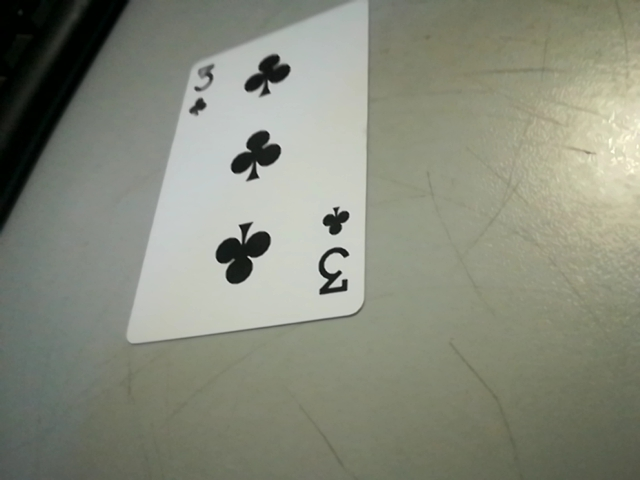mh 3: (308, 198, 368, 310)
